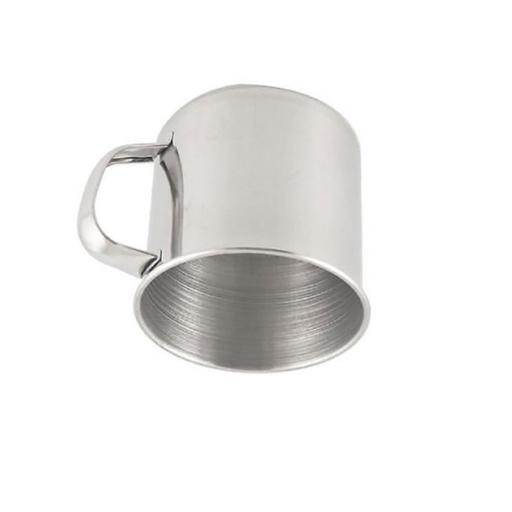cup: (79, 86, 368, 371)
